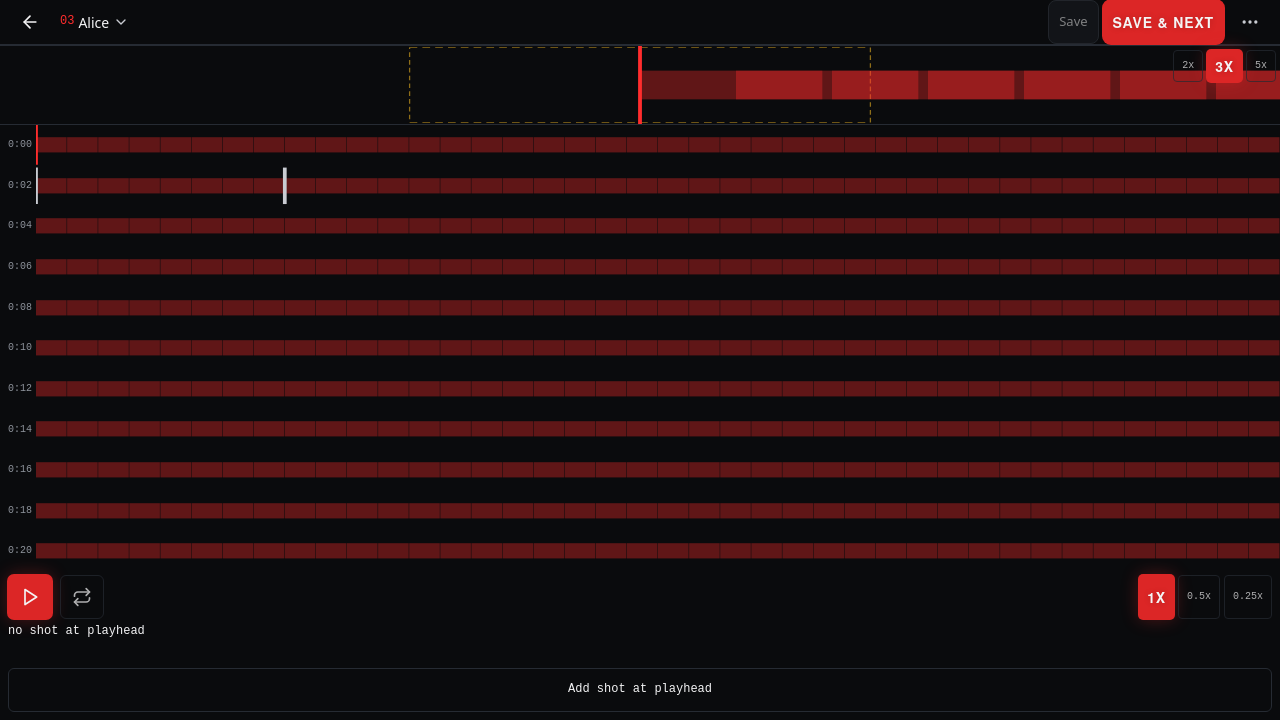
it: MobileAudit navigation › a failed save stays on the stage
Step 1. Click the button "Save & next" → (1163, 22), box [1103,0,1224,44]
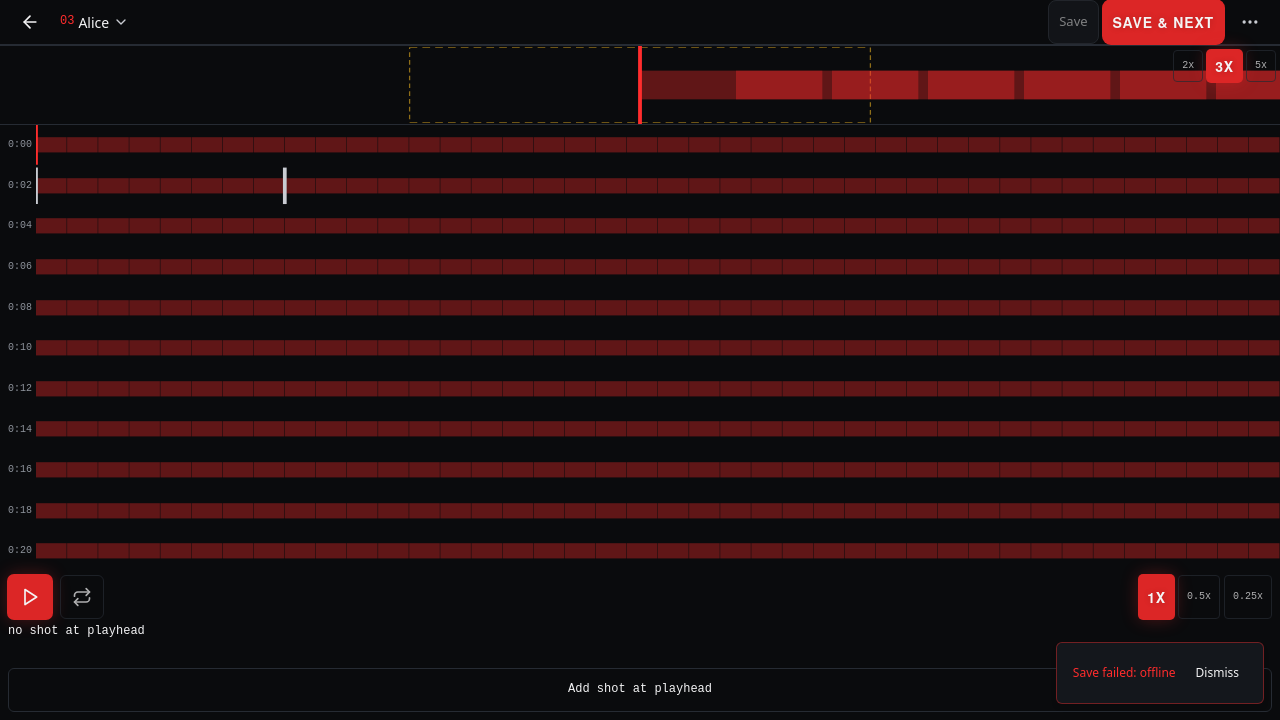
Expected: the text with test id "where" reads "/match/m1/audit/alice/3", [0,1,183,23]
Now the text "Save failed: offline" is shown, box [1073,664,1176,682]
